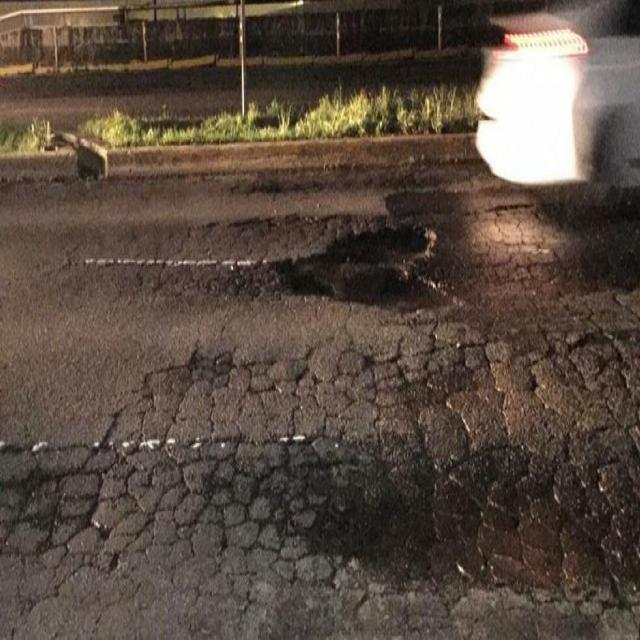Pothole: (264, 162, 480, 350)
